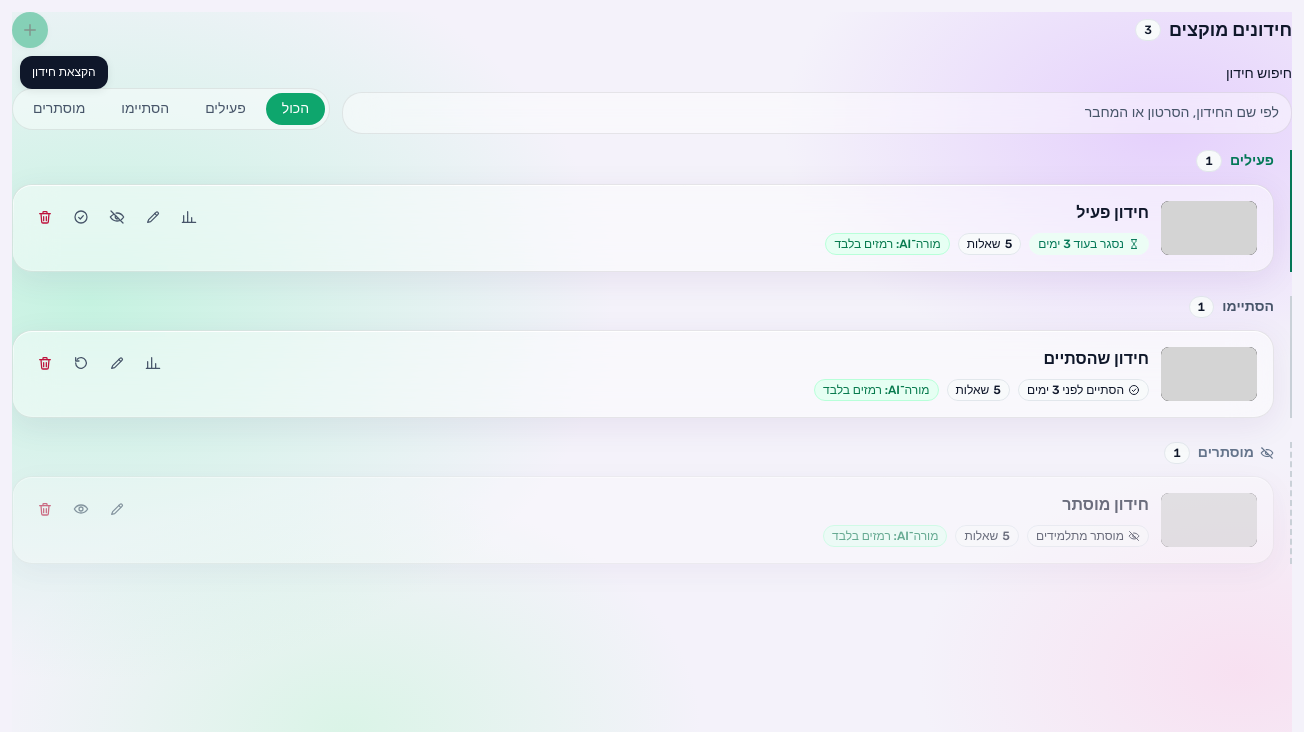
it: AssignedQuizzesSection search and filter › filters down to the ended quizzes
The width and height of the screenshot is (1304, 732).
Click the radio button labelled "הסתיימו": [145, 109] box x1=105 y1=93 x2=185 y2=125
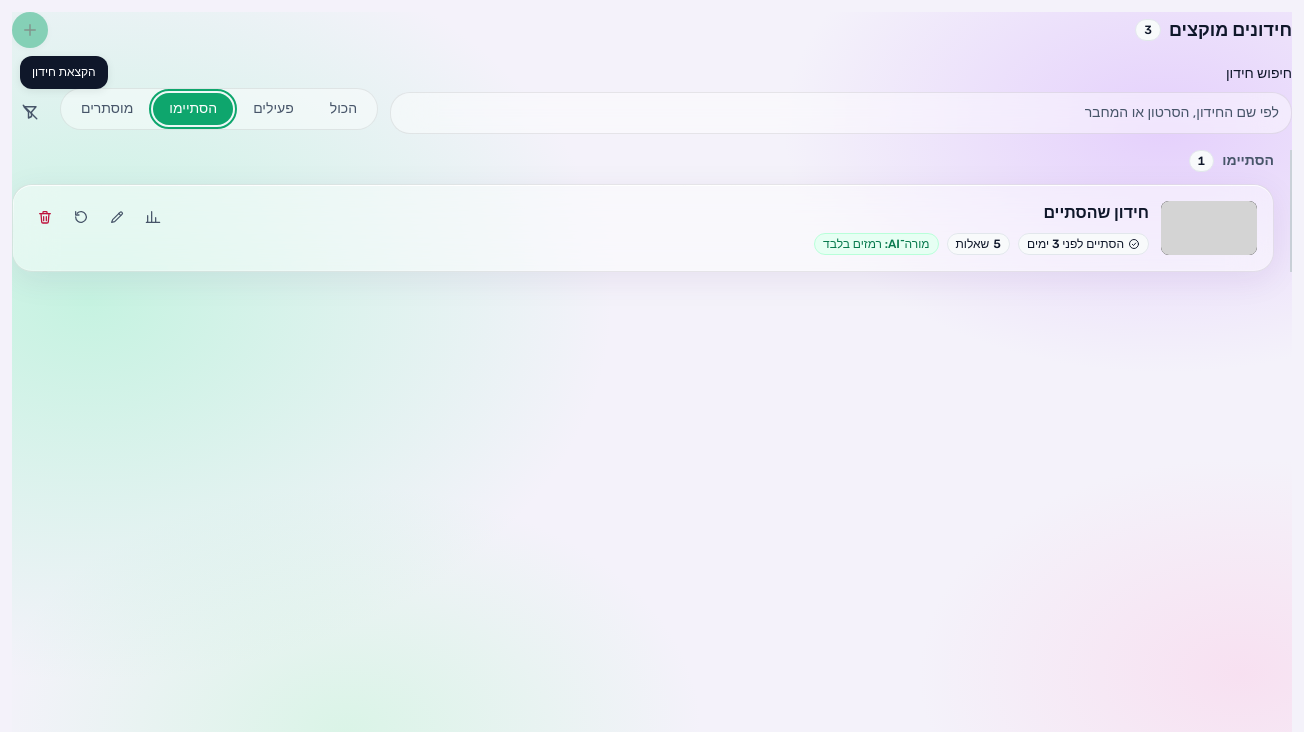
Expected: the heading "חידון שהסתיים" is shown, x1=1043 y1=203 x2=1149 y2=222
Expected: the heading "חידון פעיל" is gone
Expected: the heading "חידון מוסתר" is gone
